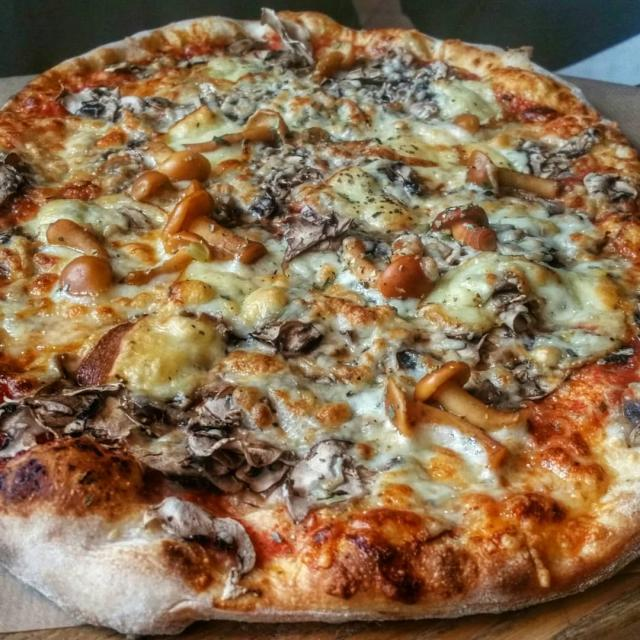mushrooms: (145, 500, 256, 573), (192, 428, 290, 489), (288, 438, 361, 518), (285, 208, 351, 254), (129, 432, 196, 473), (126, 399, 192, 437), (0, 398, 42, 456), (28, 395, 92, 432), (87, 394, 137, 439), (256, 319, 318, 354), (61, 91, 121, 123), (488, 294, 538, 332), (585, 171, 640, 202), (388, 164, 422, 198), (64, 382, 122, 397), (0, 155, 17, 206)
pizza: (0, 11, 640, 637)
